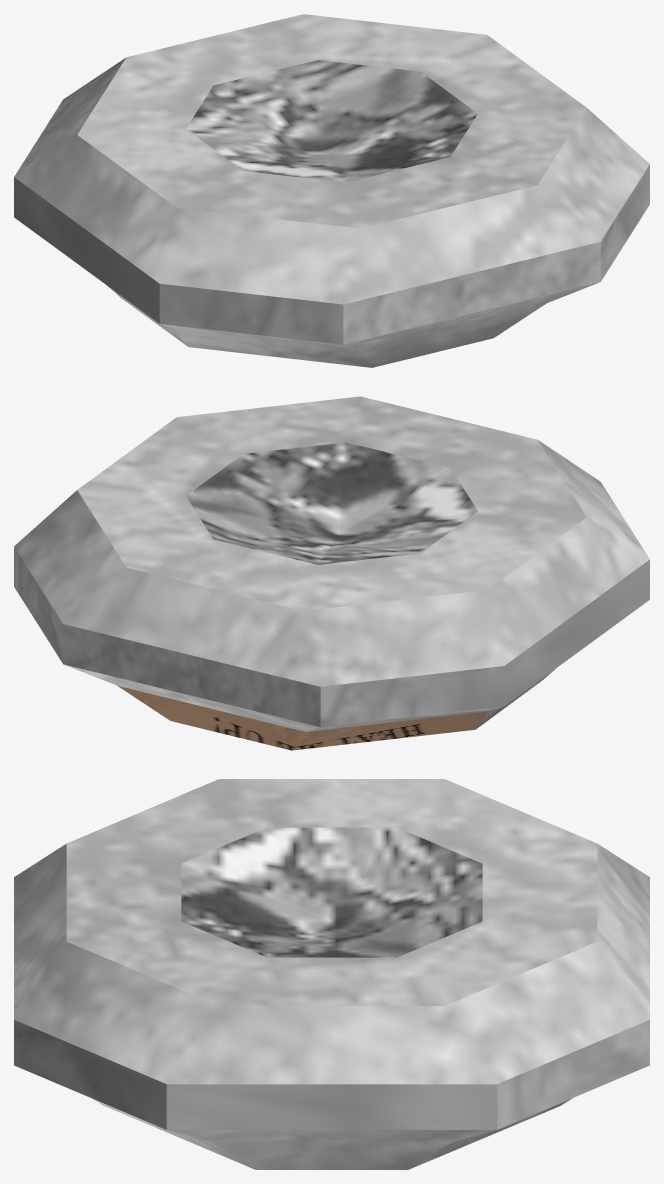
File: Food2.FBX
3 renders of one model, top to bottom at view 1: azimuth 30°, elevation 25°; view 2: azimuth 150°, elevation 25°; view 3: azimuth 270°, elevation 25°, orthographic. The views are drawn at different scales.
Parts seen in each view (by area): view 1: Box008, Object001; view 2: Box008, Object001, Object002; view 3: Box008, Object001.
Boxes of the visible parts, x1=… form: Box008: x1=14, y1=14, x2=649, y2=367; Object001: x1=186, y1=60, x2=477, y2=182; Box008: x1=14, y1=396, x2=649, y2=731; Object001: x1=186, y1=442, x2=477, y2=564; Object002: x1=117, y1=685, x2=489, y2=750; Box008: x1=14, y1=779, x2=649, y2=1169; Object001: x1=181, y1=827, x2=482, y2=957.
Bounding box in the file's own units: 46.89 × 16.39 × 46.41.
Materials: 8 (8 with a texture image).
